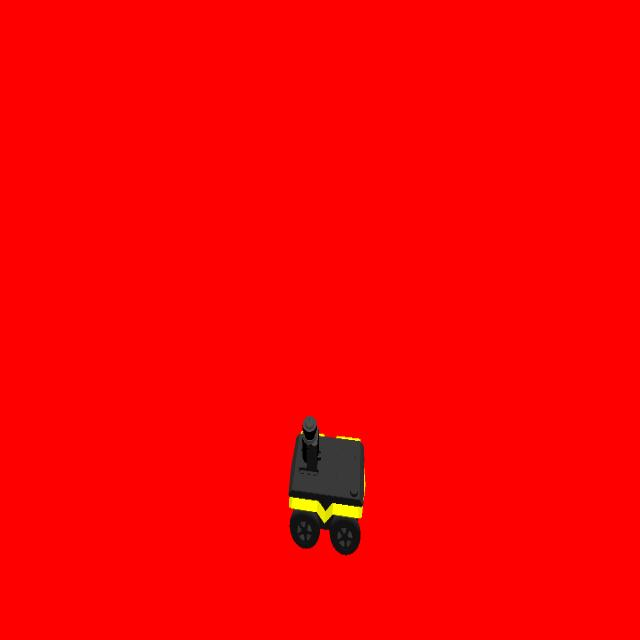jackal: (288, 414, 366, 559)
